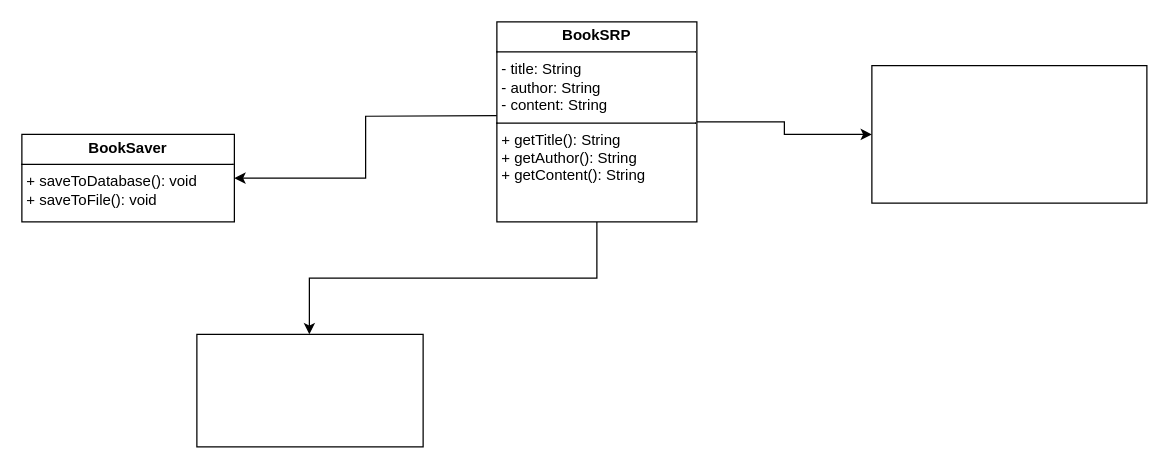
The diagram is 1169 pixels wide and 469 high, and some of its shapes have lost their labels. Each missing label, with the centre of its shape:
"BookBusinessLogic + emprunter(): void + autreService(): void" belongs at pixel 309 390.
"BookPrinter + printToScreen(): void + printToHTML(): void" belongs at pixel 1009 133.
